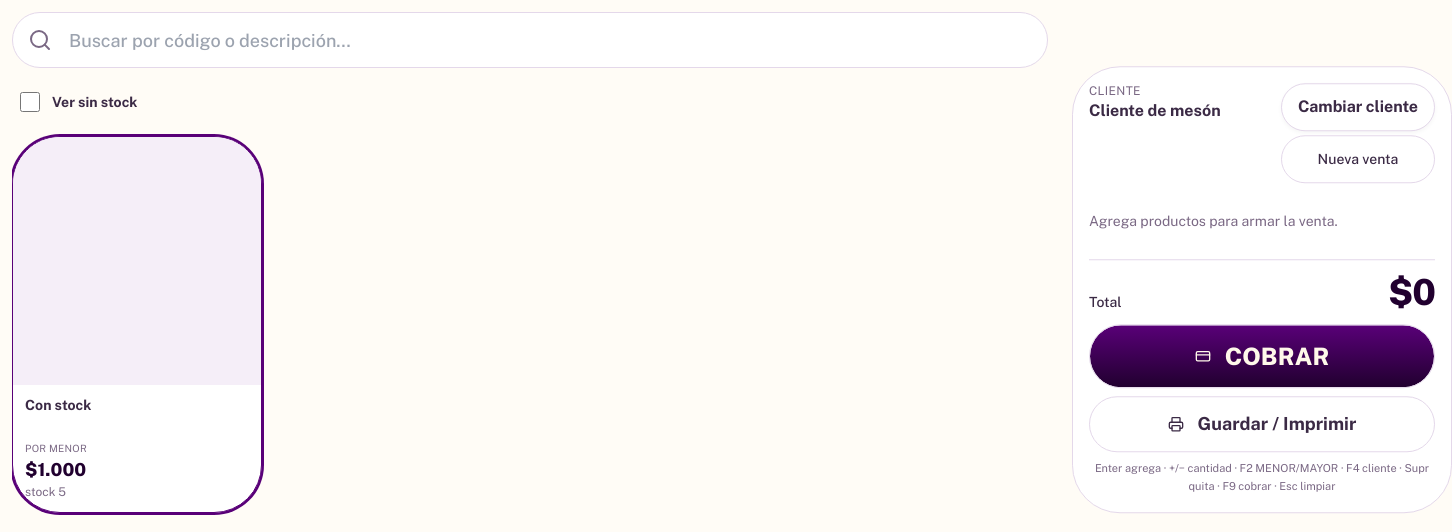
pos-stock — grilla y búsqueda filtradas › el check "Ver sin stock" está apagado, es tocable (>=44px) y al encenderse quita el filtro
This screenshot has width=1452, height=532.
Expected: the button with test id "pos-producto-ST1" is shown, [12,136,262,513]
Click the checkbox labelled "Ver sin stock" at (30, 102), box [20,92,40,112]
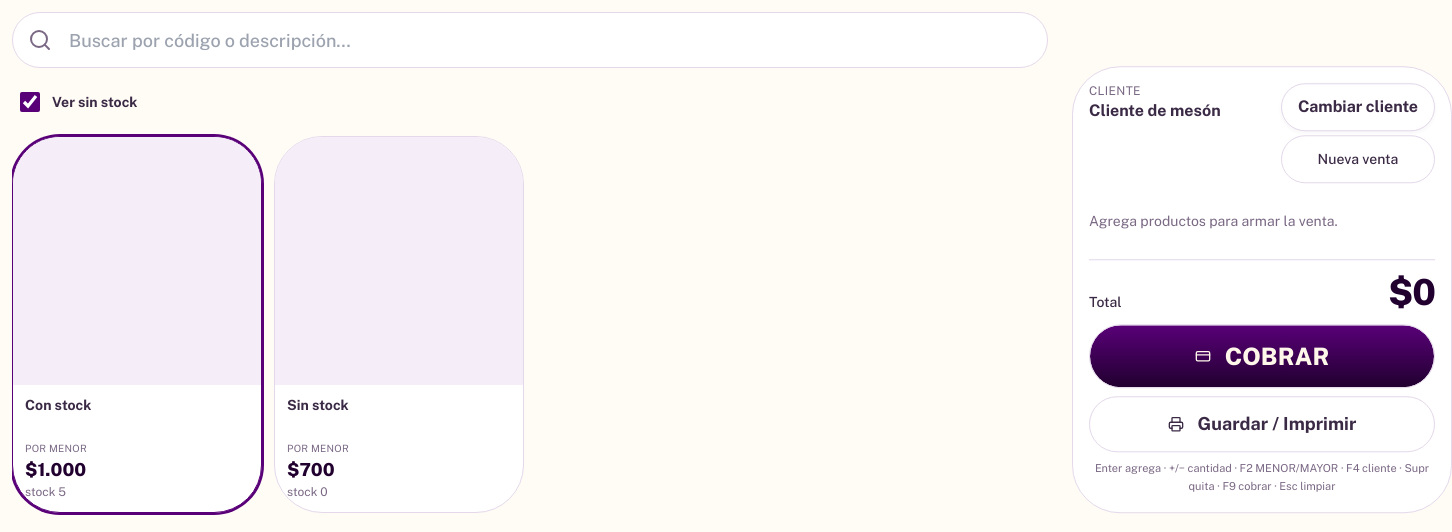
Result: the button with test id "pos-producto-SS1" is shown at [274,136,524,513]
